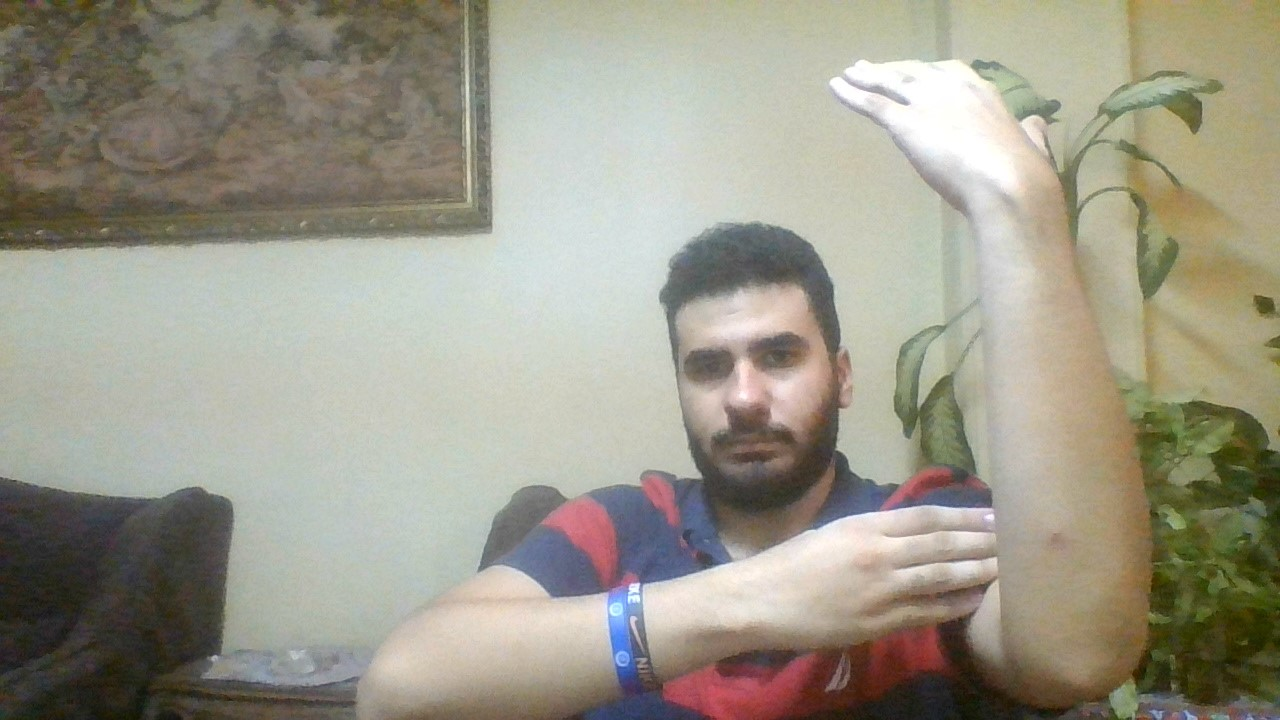morning: (786, 26, 1154, 660)
